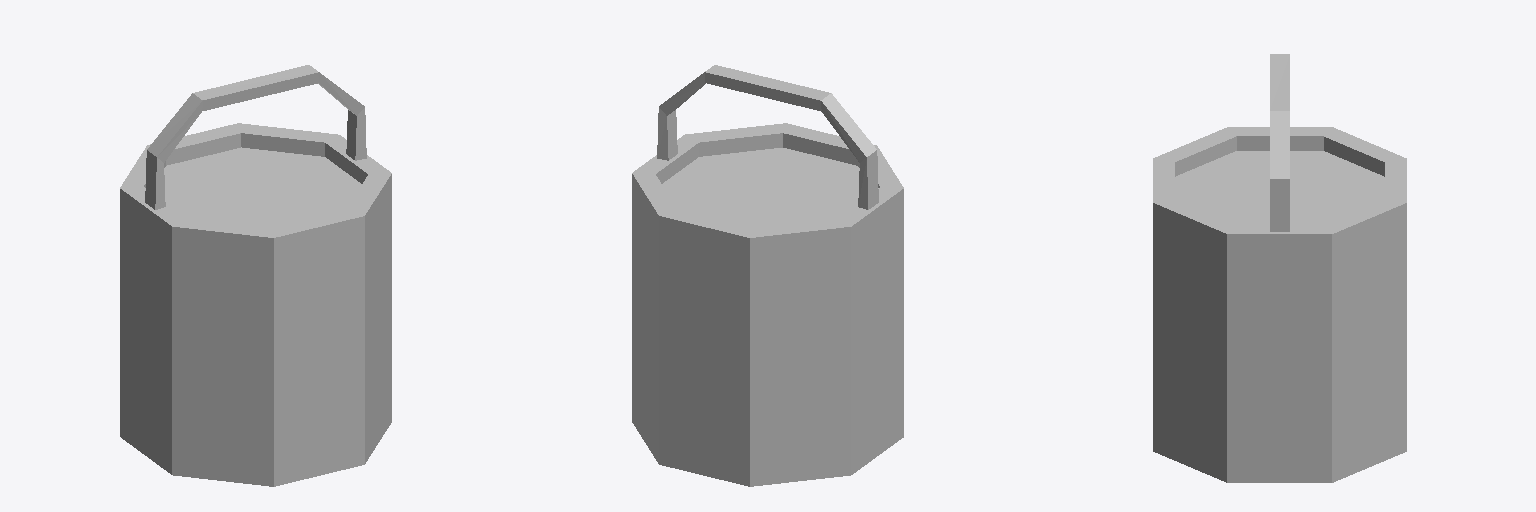
File: paint_bucket.obj
3 renders of one model, left to right at view 1: azimuth 30°, elevation 25°; view 2: azimuth 150°, elevation 25°; view 3: azimuth 270°, elevation 25°, orthographic.
Visible parts, largest first — view 1: Cylinder; view 2: Cylinder; view 3: Cylinder.
Boxes of the visible parts, x1,y1,x2,y2 form: Cylinder: [120, 65, 391, 486]; Cylinder: [632, 65, 903, 486]; Cylinder: [1153, 54, 1406, 482].
Size of the model in its own units: 1.85 by 2.79 by 1.85.